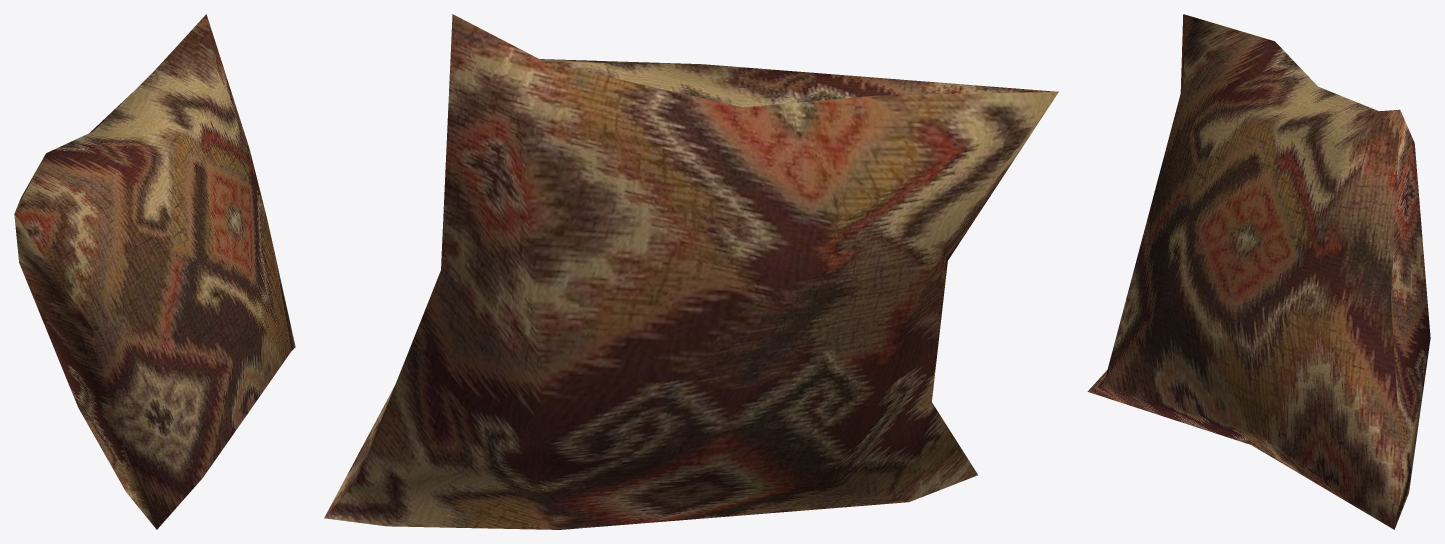
Rendered from cushion.002.fbx.
The picture shows the model from 3 angles, left to right: view 1: azimuth 30°, elevation 25°; view 2: azimuth 150°, elevation 25°; view 3: azimuth 270°, elevation 25°; orthographic projection. The views are drawn at different scales.
Parts seen in each view (by area): view 1: cushion.002; view 2: cushion.002; view 3: cushion.002.
Part boxes in pixels (left/top/right/bottom): cushion.002: left=14, top=14, right=295, bottom=529; cushion.002: left=324, top=14, right=1058, bottom=529; cushion.002: left=1087, top=14, right=1430, bottom=529.
Bounding box in the file's own units: 37.57 × 34.01 × 27.54.
1 material, 1 textured.
